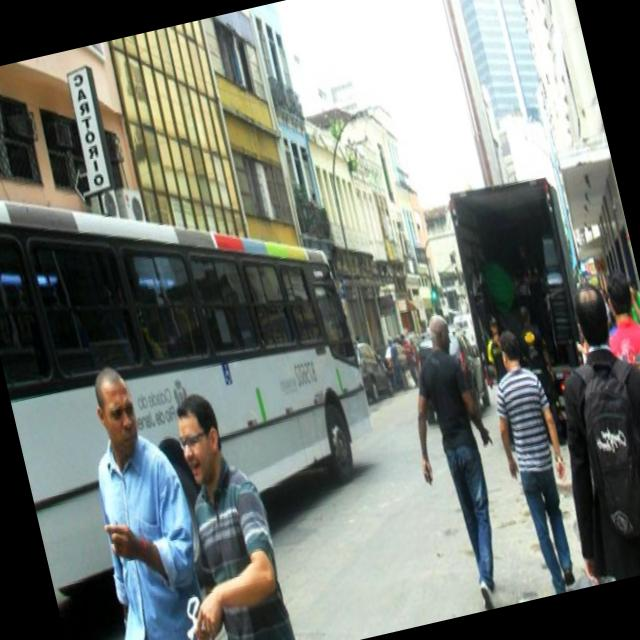bus: (0, 114, 394, 591), (447, 166, 608, 436)
